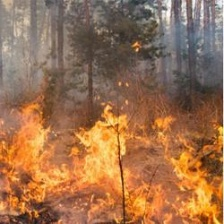fire: (2, 100, 224, 221)
